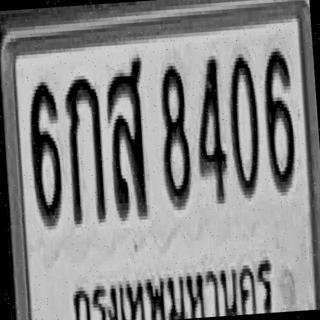A01: (62, 71, 107, 224)
A40: (103, 54, 151, 218)
N00: (225, 49, 263, 199)
N04: (191, 52, 229, 205)
N06: (26, 78, 64, 227), (260, 47, 297, 193)
N08: (156, 61, 192, 208)
P04: (67, 257, 276, 320)
